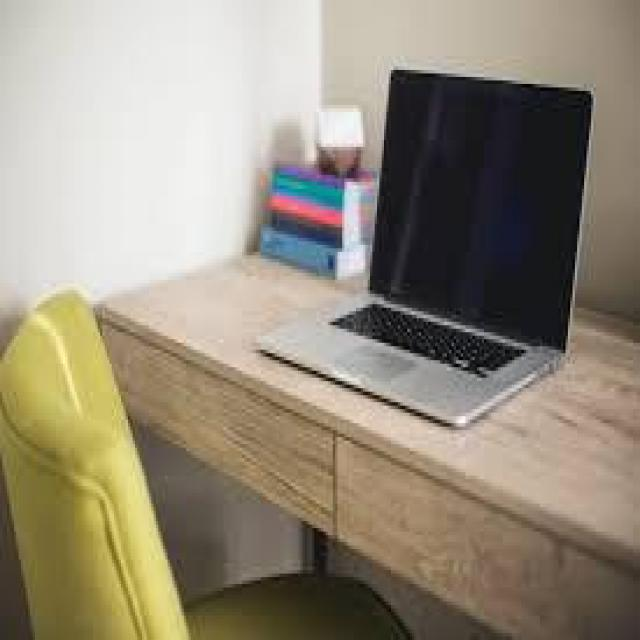desk: (77, 170, 630, 614)
